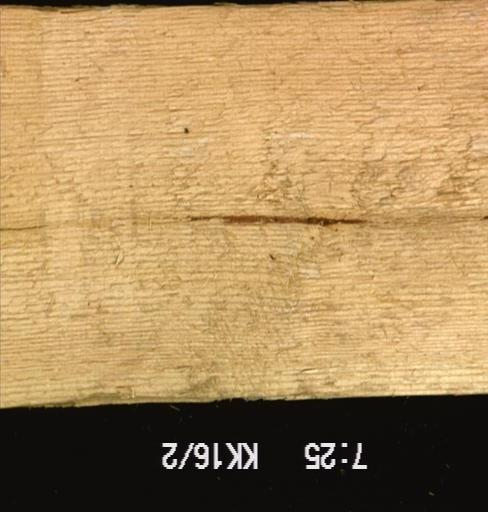split: (0, 218, 58, 250)
